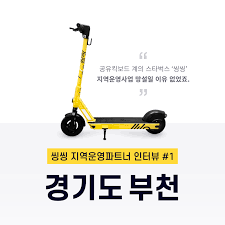kick_body: (96, 117, 144, 129)
kick_handler: (69, 23, 90, 36)
kick_neck: (73, 39, 86, 99)
kick_wheel: (146, 112, 167, 135), (61, 115, 84, 136)
